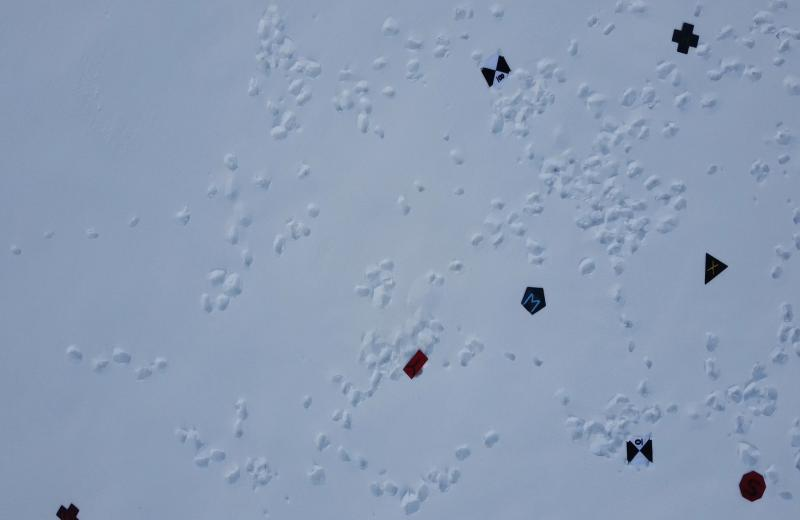Cross: (668, 21, 700, 56)
Octagon: (737, 468, 768, 503)
Pentagon: (519, 282, 551, 317)
Rectangle: (398, 344, 430, 382)
Triangle: (696, 248, 731, 289)
